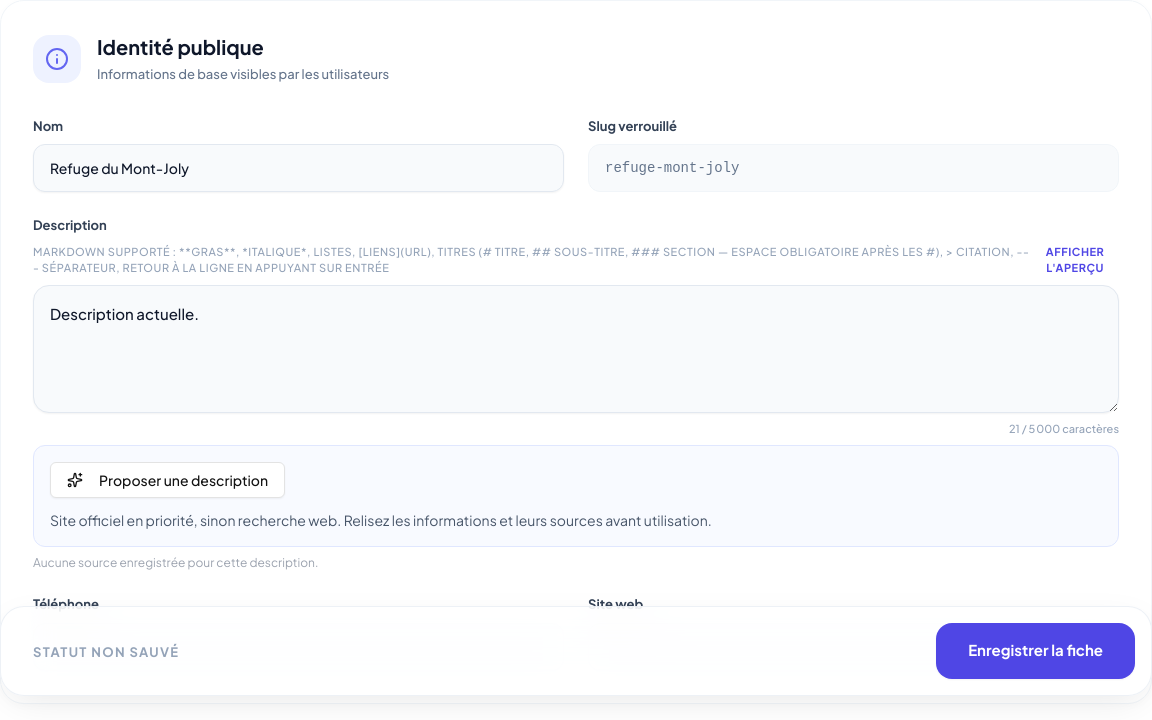
Test case: AC-04: shows errors and keeps the current description
Step 1. Click the button "Proposer une description" → (168, 480), box [50,462,285,498]
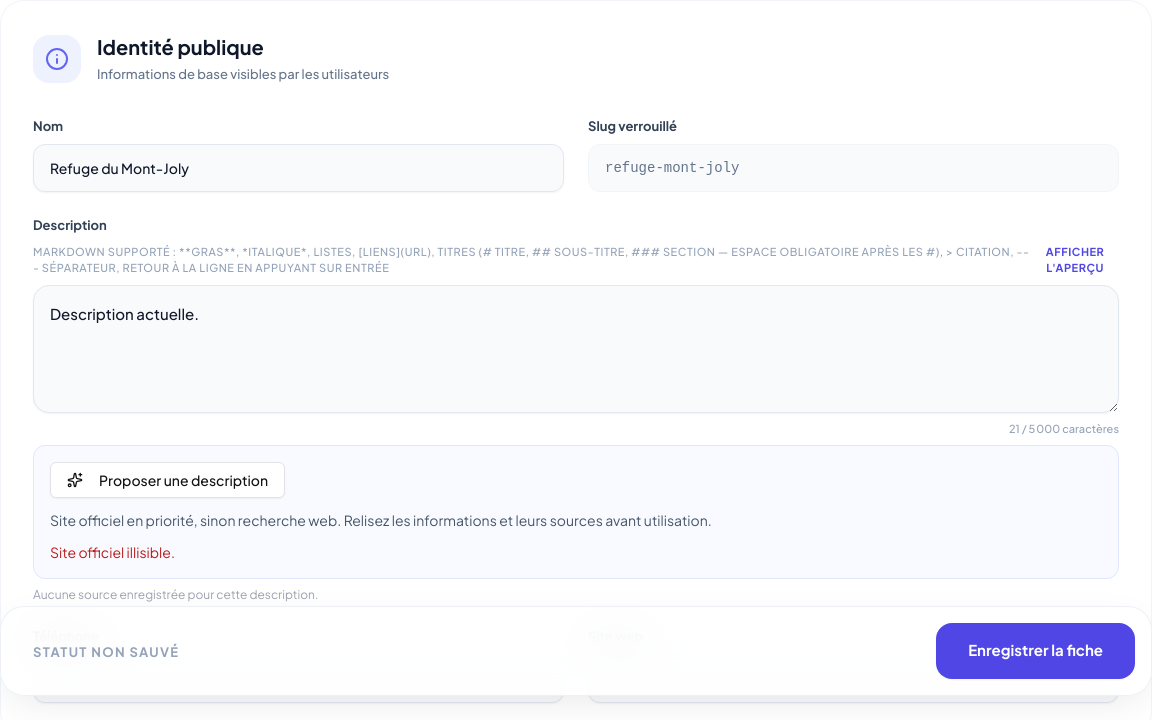
Expected: the text box labelled "Description" holds "Description actuelle.", [33,284,1119,412]
Expected: the message reads "Site officiel illisible.", [50,543,175,561]
